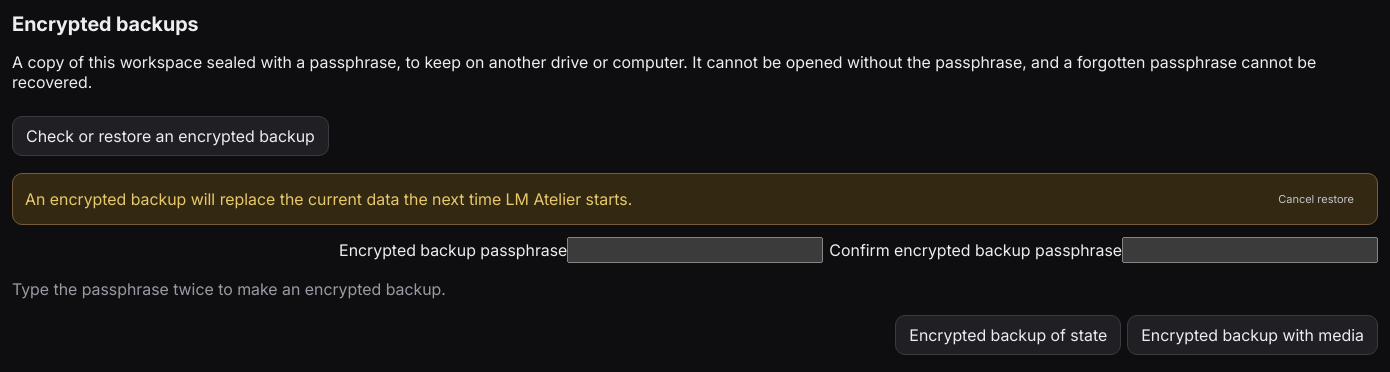
it: says so when a waiting restore cannot be cancelled, and keeps showing it
This screenshot has width=1390, height=372.
Click the button "Cancel restore" at (1316, 199), box x1=1267 y1=184 x2=1365 y2=214
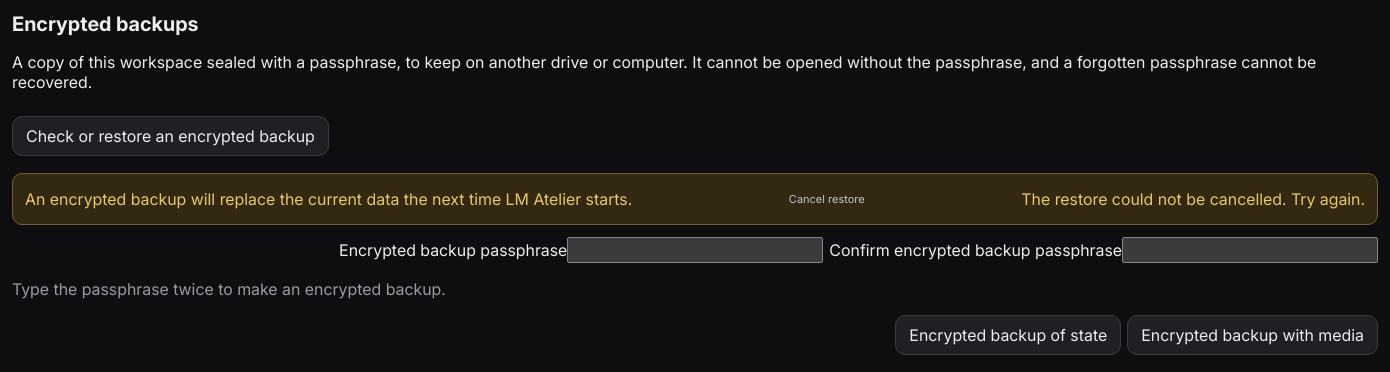
Check: the button "Cancel restore" is shown, box x1=778 y1=184 x2=876 y2=214
Check: the message reads "The restore could not be cancelled. Try again.", box x1=1021 y1=189 x2=1365 y2=209
